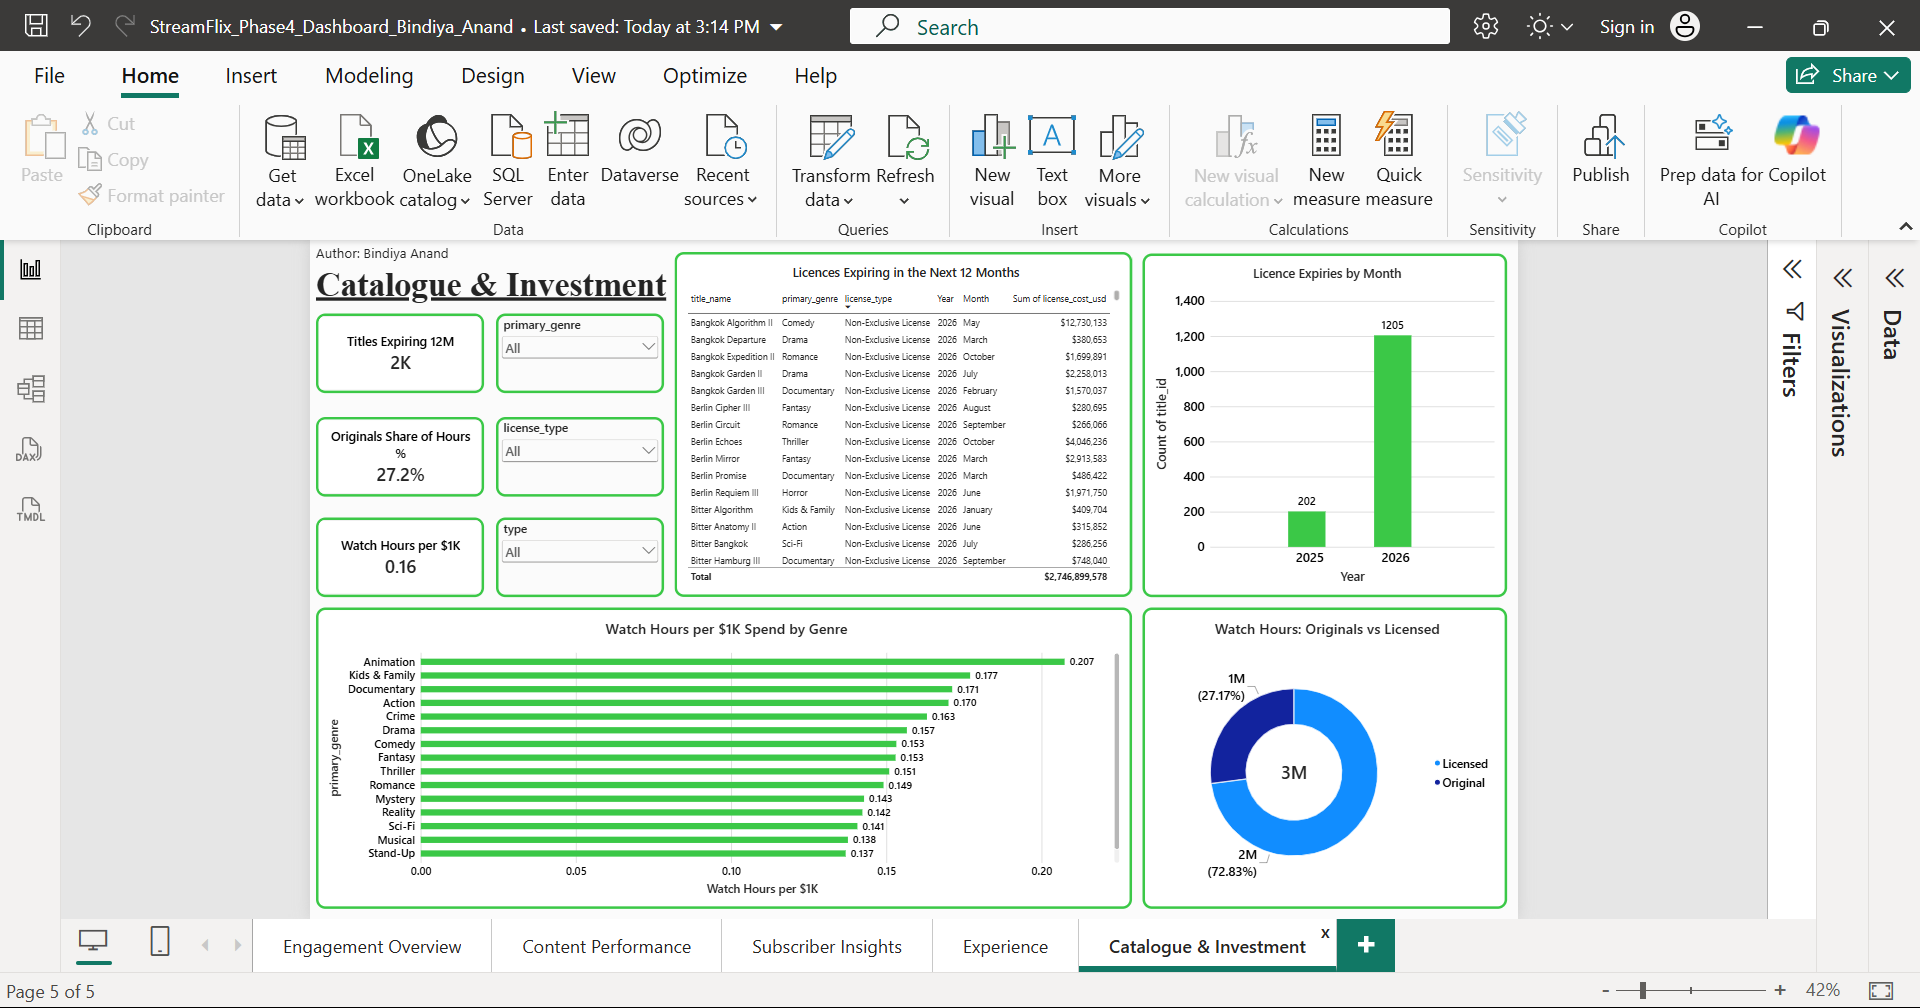

The page's visual inventory and layout, read from the dashboard file:
{"tool":"powerbi","page":{"name":"Catalogue & Investment","canvas":[1920,1080],"ordinal":4},"visuals":[{"type":"textbox","box":[9.5,40.6,570.2,76.3],"z":0},{"type":"textbox","box":[9.5,4.8,219.5,35.8],"z":1000},{"type":"cardVisual","fields":{"Data":["_Measures.Originals Share of Hours %"]},"box":[9.5,281.5,267.2,126.5],"z":2000},{"type":"cardVisual","fields":{"Data":["_Measures.Titles Expiring 12M"]},"box":[9.5,116.9,267.2,126.5],"z":3000},{"type":"cardVisual","fields":{"Data":["_Measures.Watch Hours per $1K"]},"box":[9.5,441.4,267.2,126.5],"z":4000},{"type":"donutChart","title":"Watch Hours: Originals vs Licensed","fields":{"Category":["titles.Content Source"],"Y":["_Measures.Total Watch Hours"]},"box":[1324.2,584.5,579.8,479.6],"z":5000},{"type":"clusteredBarChart","title":"Watch Hours per $1K Spend by Genre","fields":{"Category":["titles.primary_genre"],"Y":["_Measures.Watch Hours per $1K"]},"box":[9.5,584.5,1297.9,479.6],"z":6000},{"type":"tableEx","title":"Licences Expiring in the Next 12 Months","fields":{"Values":["titles.title_name","titles.primary_genre","titles.license_type","titles.license_expiry.Variation.Date Hierarchy.Year","titles.license_expiry.Variation.Date Hierarchy.Month","Sum(titles.license_cost_usd)"]},"box":[579.8,19.1,727.7,548.8],"z":7000},{"type":"clusteredColumnChart","title":"Licence Expiries by Month","fields":{"Category":["titles.Expiry Month.Variation.Date Hierarchy.Year","titles.Expiry Month.Variation.Date Hierarchy.Month"],"Y":["Count(titles.title_id)"]},"box":[1324.2,21.5,579.8,546.4],"z":8000},{"type":"slicer","fields":{"Values":["titles.primary_genre"]},"box":[295.9,116.9,267.2,126.5],"z":9000},{"type":"slicer","fields":{"Values":["titles.license_type"]},"box":[295.9,281.5,267.2,126.5],"z":10000},{"type":"slicer","fields":{"Values":["titles.type"]},"box":[295.9,441.4,267.2,126.5],"z":11000}]}

Visuals, with their boxes on the page's 1920x1080 design canvas (x1, y1, x2, y2). These are canvas units, not pixel positions in the 1920x1008 screenshot, which may show the page scaled, cropped or inside an application window:
textbox: bbox=(10, 41, 580, 117)
textbox: bbox=(10, 5, 229, 41)
cardVisual - _Measures.Originals Share of Hours %: bbox=(10, 282, 277, 408)
cardVisual - _Measures.Titles Expiring 12M: bbox=(10, 117, 277, 243)
cardVisual - _Measures.Watch Hours per $1K: bbox=(10, 441, 277, 568)
"Watch Hours: Originals vs Licensed" donutChart: bbox=(1324, 584, 1904, 1064)
"Watch Hours per $1K Spend by Genre" clusteredBarChart: bbox=(10, 584, 1307, 1064)
"Licences Expiring in the Next 12 Months" tableEx: bbox=(580, 19, 1308, 568)
"Licence Expiries by Month" clusteredColumnChart: bbox=(1324, 22, 1904, 568)
slicer - titles.primary_genre: bbox=(296, 117, 563, 243)
slicer - titles.license_type: bbox=(296, 282, 563, 408)
slicer - titles.type: bbox=(296, 441, 563, 568)
